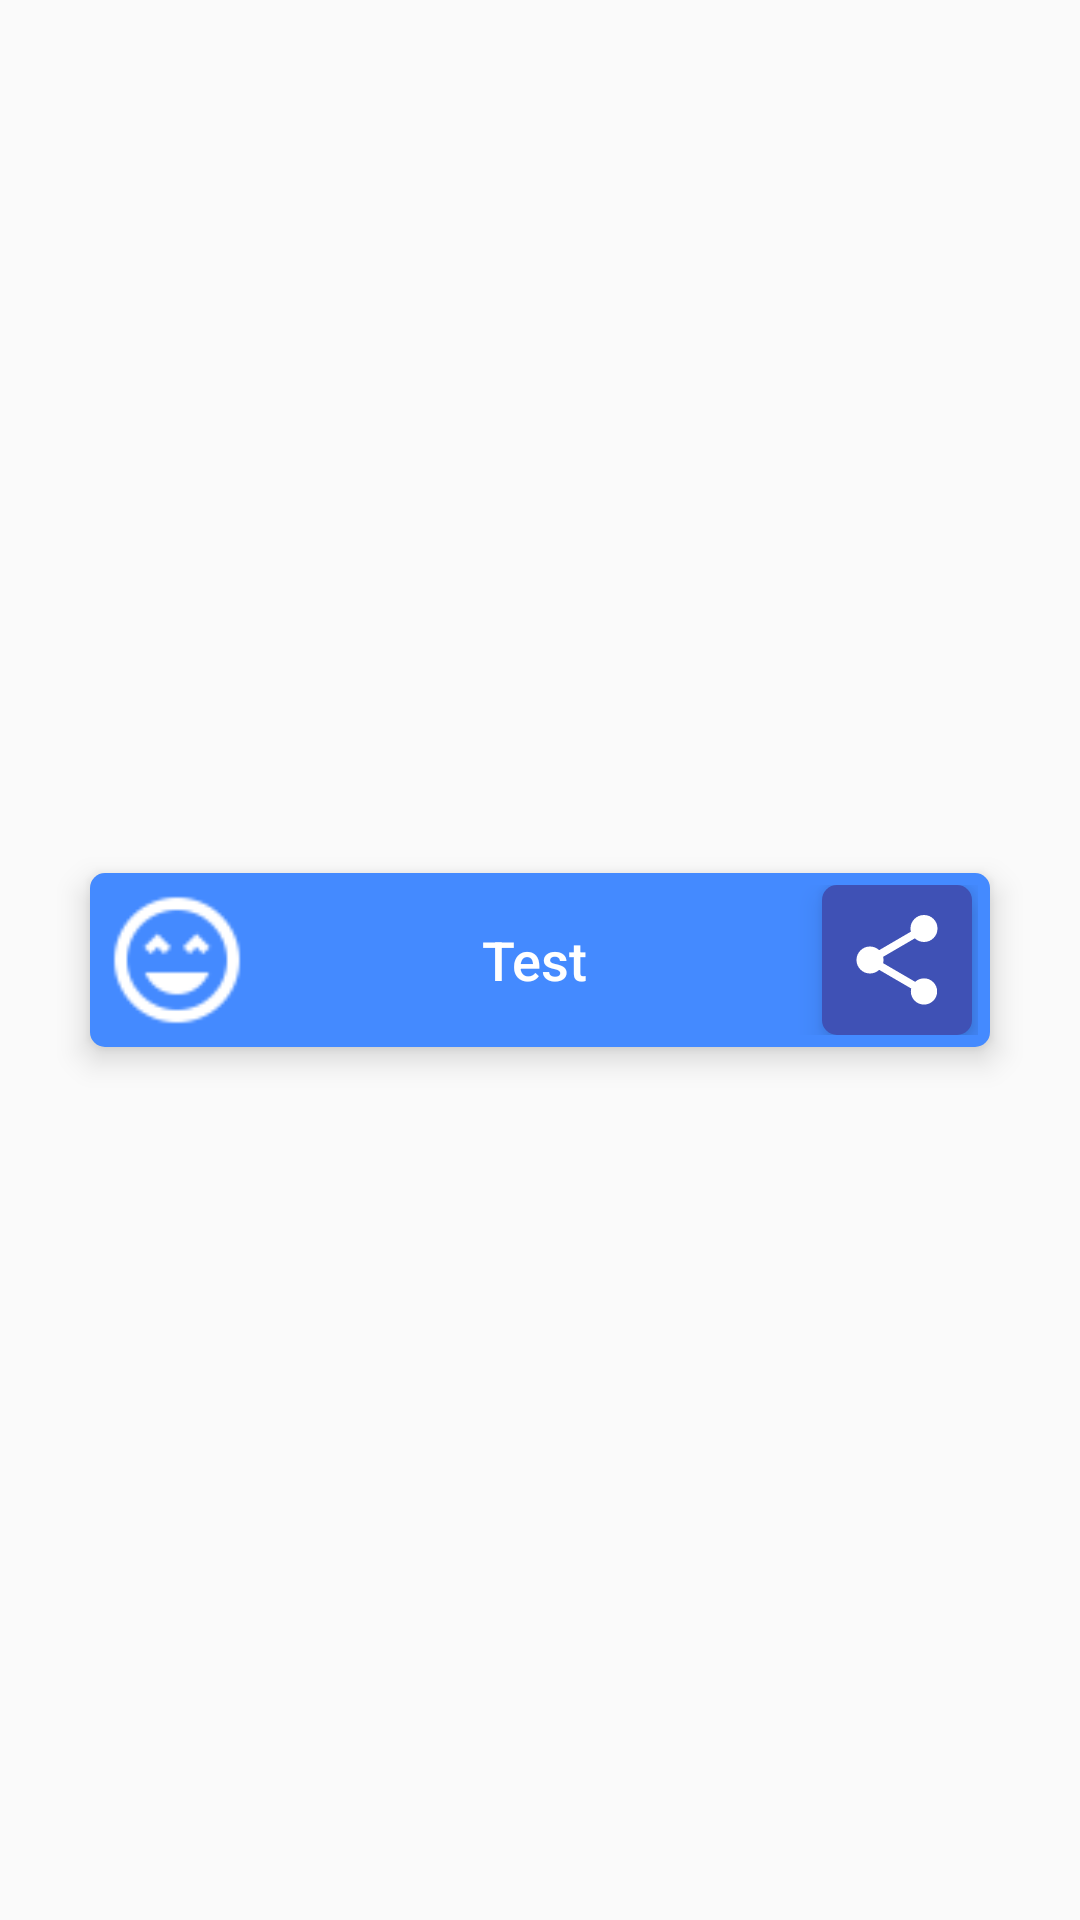

Screen size 1080 x 1920. Icon name, then its box in pixels as (left=x1, top=y1, right=x2, bottom=y2):
funny: (left=113, top=896, right=241, bottom=1024)
share: (left=822, top=885, right=972, bottom=1035)
